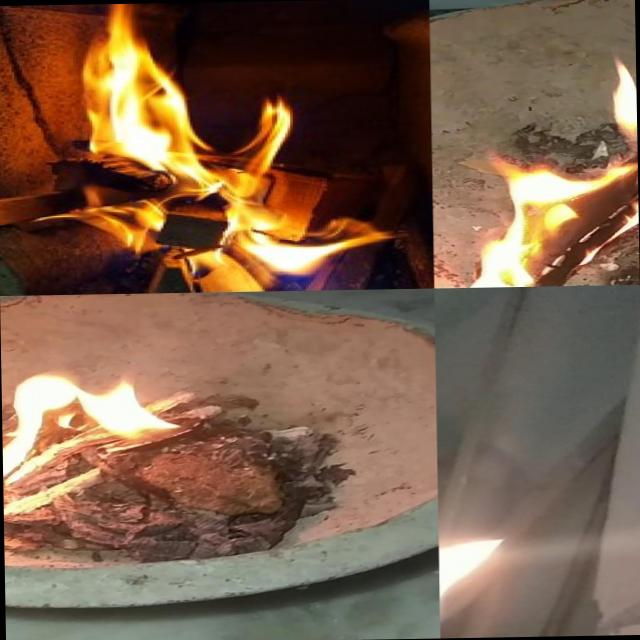fire: (55, 0, 389, 278), (1, 355, 230, 529), (470, 53, 640, 287), (438, 508, 554, 636)
